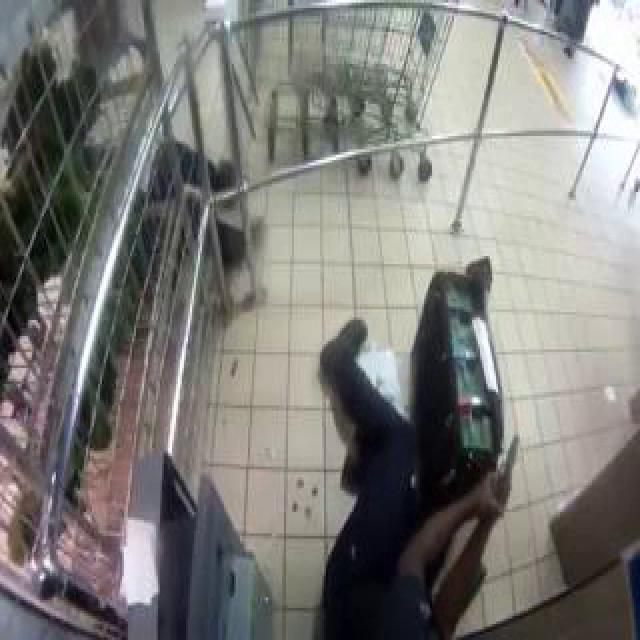shooting: (254, 167, 526, 640)
